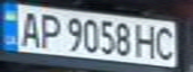0: (81, 16, 100, 54)
5: (97, 18, 118, 56)
8: (115, 20, 136, 57)
9: (60, 14, 84, 52)
A: (15, 8, 42, 48)
C: (151, 24, 178, 61)
H: (133, 21, 160, 60)
P: (36, 10, 63, 49)
